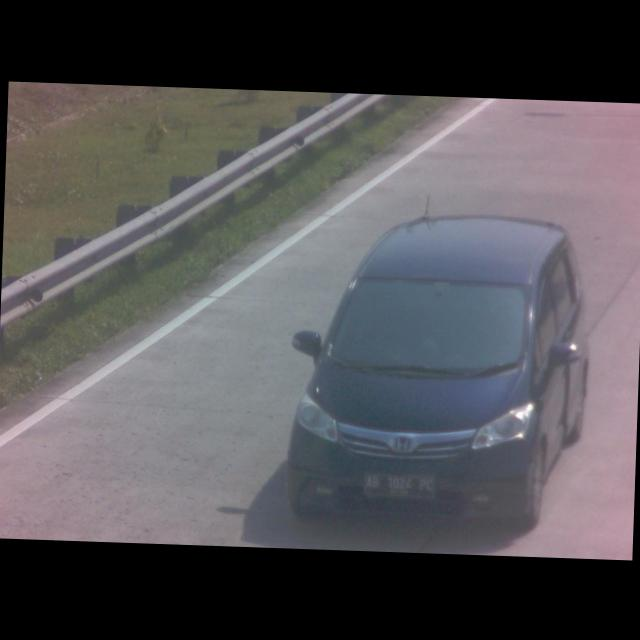plate: (362, 472, 435, 498)
